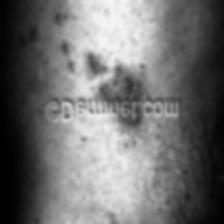Toxin: (99, 64, 138, 98)
